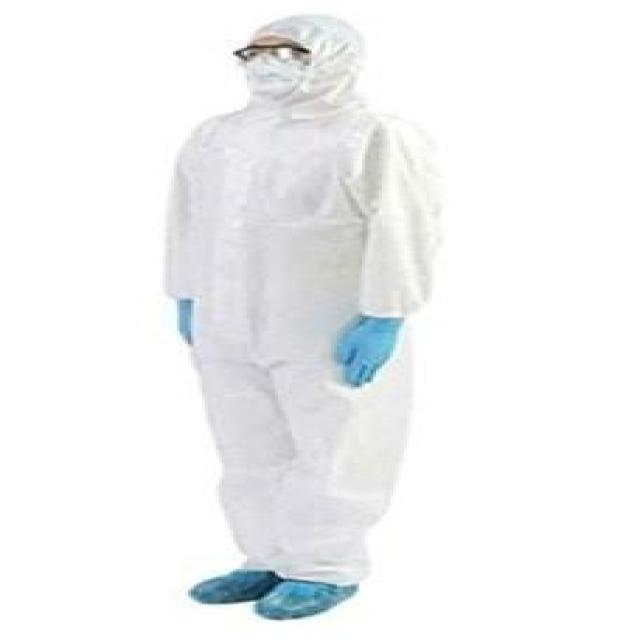Coverall: (90, 2, 466, 614)
Gloves: (292, 298, 443, 379), (132, 285, 264, 348)
Goggles: (211, 41, 315, 66)
Mask: (202, 53, 343, 97)
